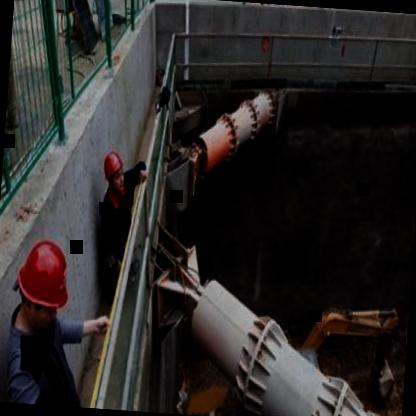helmet: (8, 229, 77, 342), (99, 144, 130, 198)
